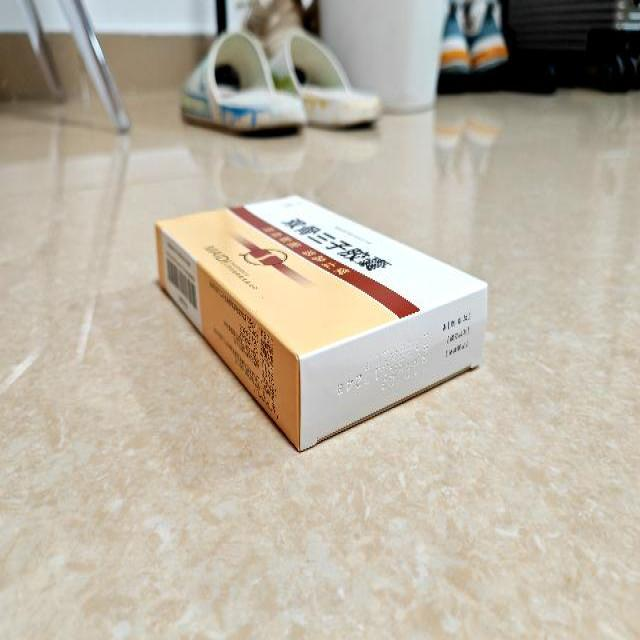box: (156, 193, 488, 454)
